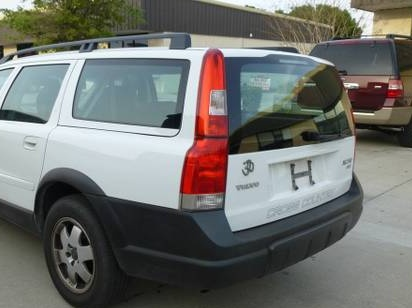volvo: (1, 34, 379, 308)
